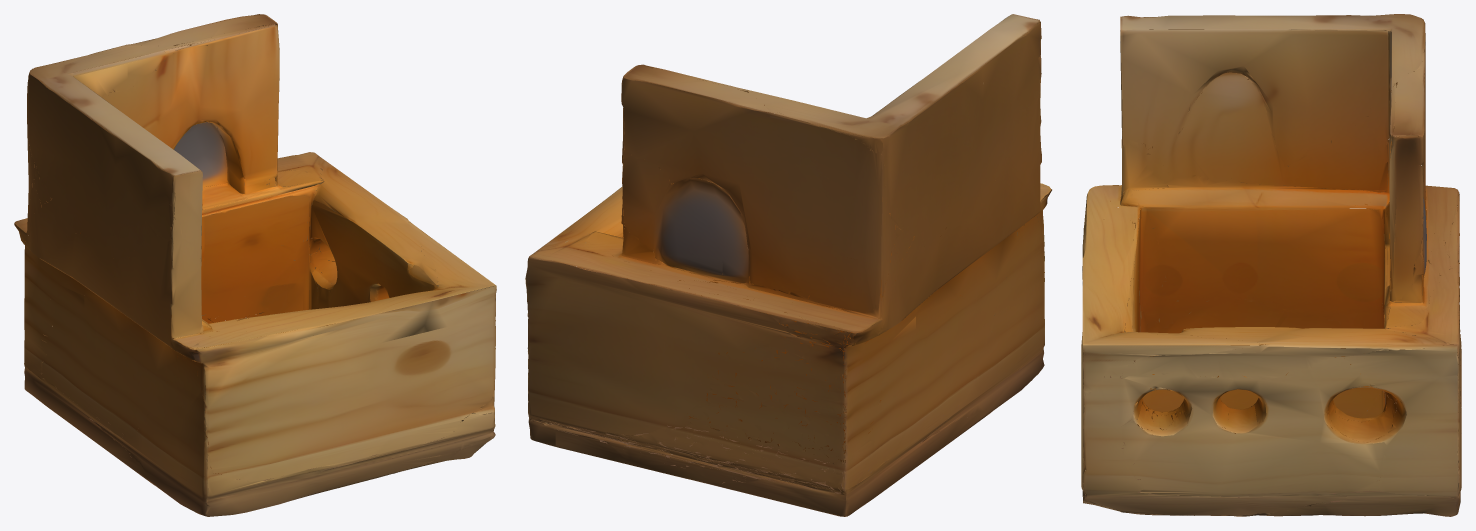
Rendered from hunyuan-sheep-box.glb.
3 views of the same model, side by side, from view 1: azimuth 30°, elevation 25°; view 2: azimuth 150°, elevation 25°; view 3: azimuth 270°, elevation 25° (orthographic). The views are drawn at different scales.
Parts seen in each view (by area): view 1: node_0; view 2: node_0; view 3: node_0.
Boxes of the visible parts, left/top/right/bottom form: node_0: left=14, top=14, right=496, bottom=516; node_0: left=525, top=14, right=1051, bottom=516; node_0: left=1081, top=14, right=1461, bottom=516.
Size of the model in its own units: 0.6886 by 0.7151 by 0.7087.
Materials: 1 (1 with a texture image).
